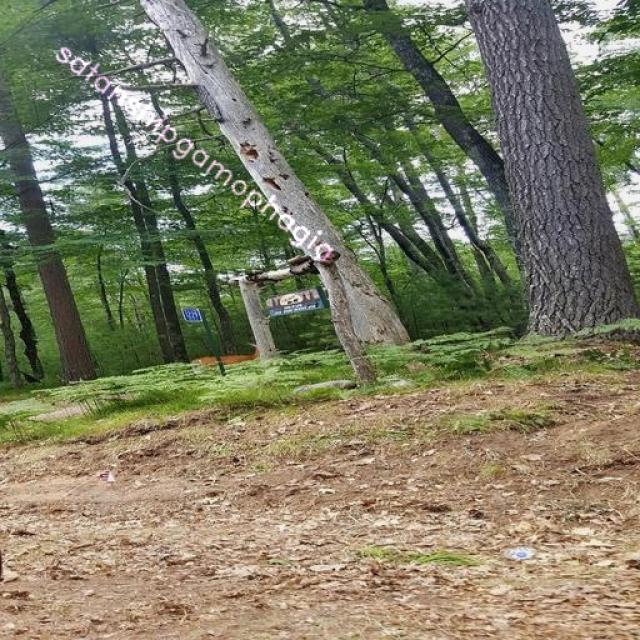watermark: (45, 32, 348, 268)
